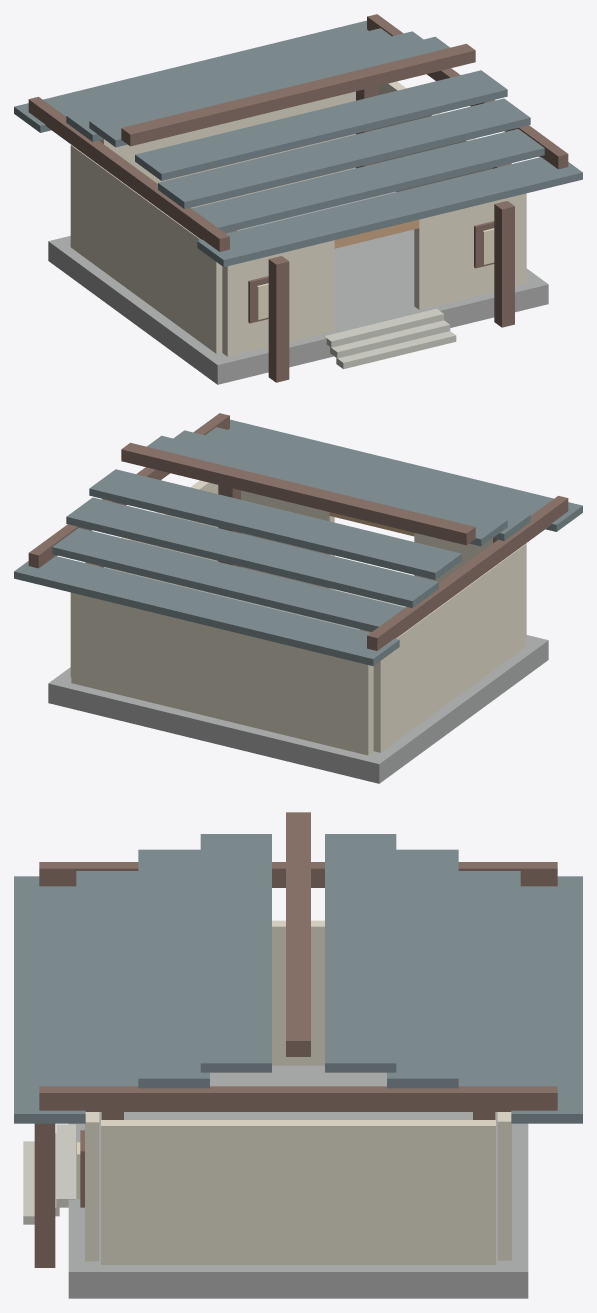
File: guild_hall_8m.glb
3 views of the same model, one above another, from view 1: azimuth 30°, elevation 25°; view 2: azimuth 150°, elevation 25°; view 3: azimuth 270°, elevation 25° (orthographic). The views are drawn at different scales.
Visible parts, largest first — view 1: roof, plaster, wood_dark, stone, stone_light, paper, wood_light; view 2: roof, plaster, stone, wood_dark; view 3: roof, plaster, wood_dark, stone, stone_light.
Boxes of the visible parts, box(x1,y1,x2,y2) form: roof: box(14, 20, 582, 266); plaster: box(70, 81, 526, 356); wood_dark: box(28, 14, 568, 382); stone: box(48, 191, 548, 384); stone_light: box(324, 308, 456, 369); paper: box(257, 228, 494, 319); wood_light: box(334, 219, 419, 248); roof: box(14, 419, 582, 665); plaster: box(70, 480, 526, 755); stone: box(48, 590, 548, 783); wood_dark: box(28, 413, 568, 650); roof: box(14, 834, 582, 1123); plaster: box(85, 920, 511, 1264); wood_dark: box(34, 812, 557, 1267); stone: box(68, 1065, 528, 1298); stone_light: box(23, 1124, 75, 1224).
Bounding box in the file's own units: 9.55 × 4.91 × 9.65.
